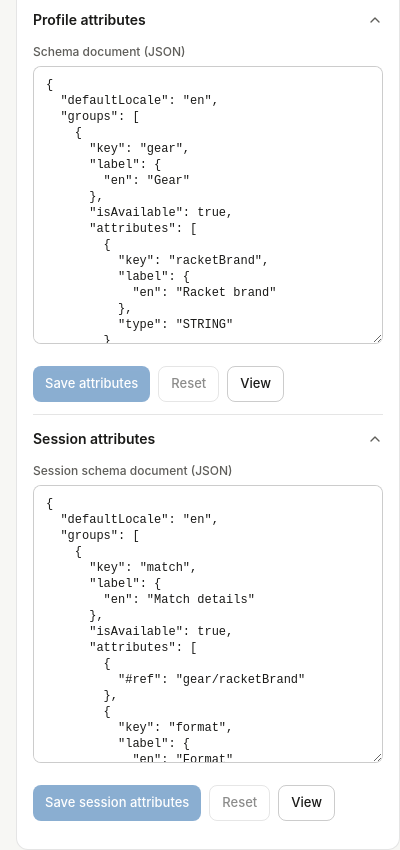
Test: AdminSportsPage › collapses a section without unmounting its editor
The width and height of the screenshot is (400, 850).
(page scrolled)
Click the button "Session attributes" at {"x": 94, "y": 438}, box x1=33 y1=427 x2=383 y2=451
(page scrolled)
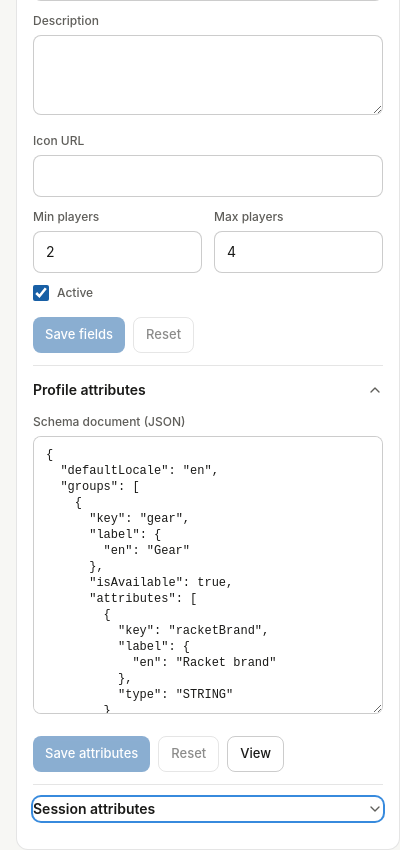
Expected: the button "Session attributes" is collapsed, x1=33 y1=797 x2=383 y2=821
